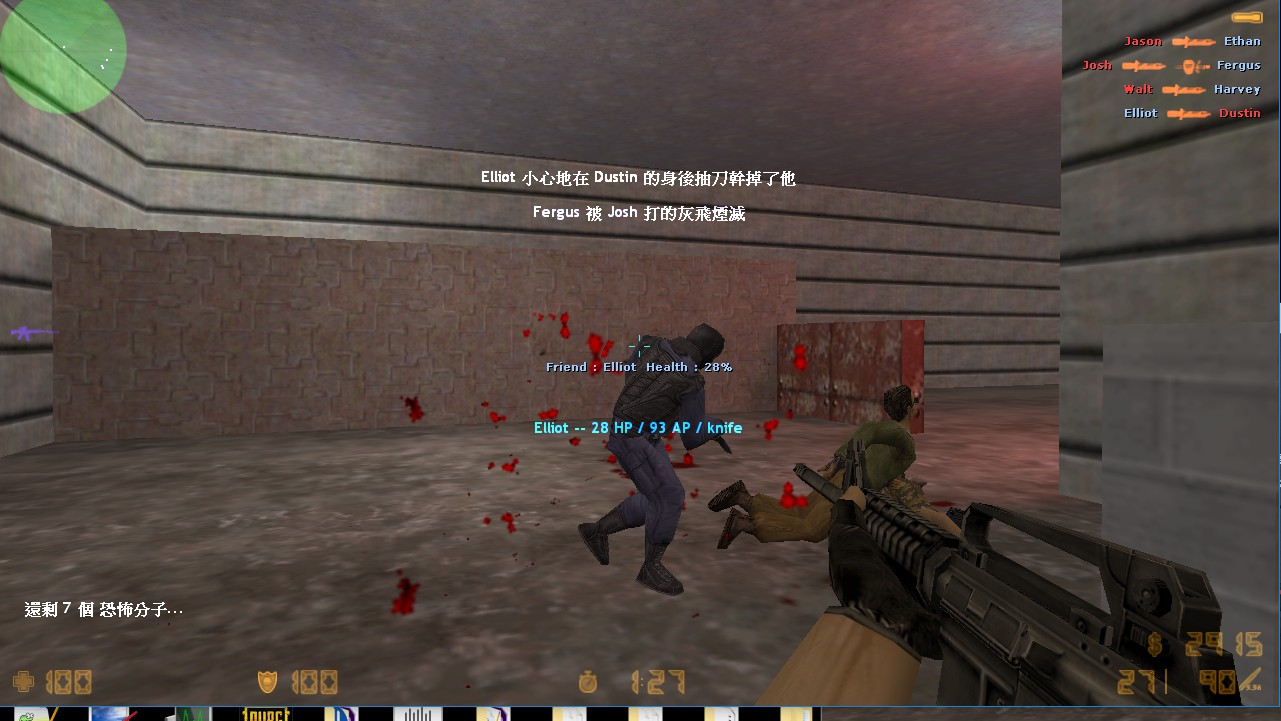person: (601, 322, 733, 594)
